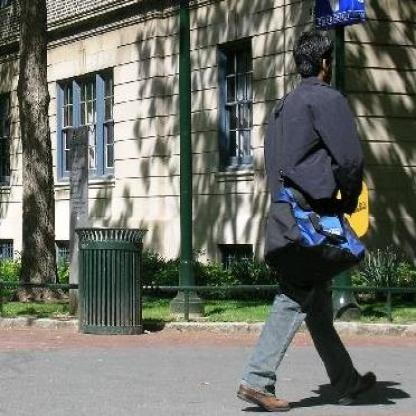person: (226, 26, 384, 406)
